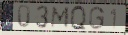0: (16, 4, 32, 30)
1: (110, 8, 117, 30)
3: (33, 5, 51, 30)
G: (88, 6, 106, 31)
M: (50, 6, 71, 29)
Q: (69, 4, 87, 33)
